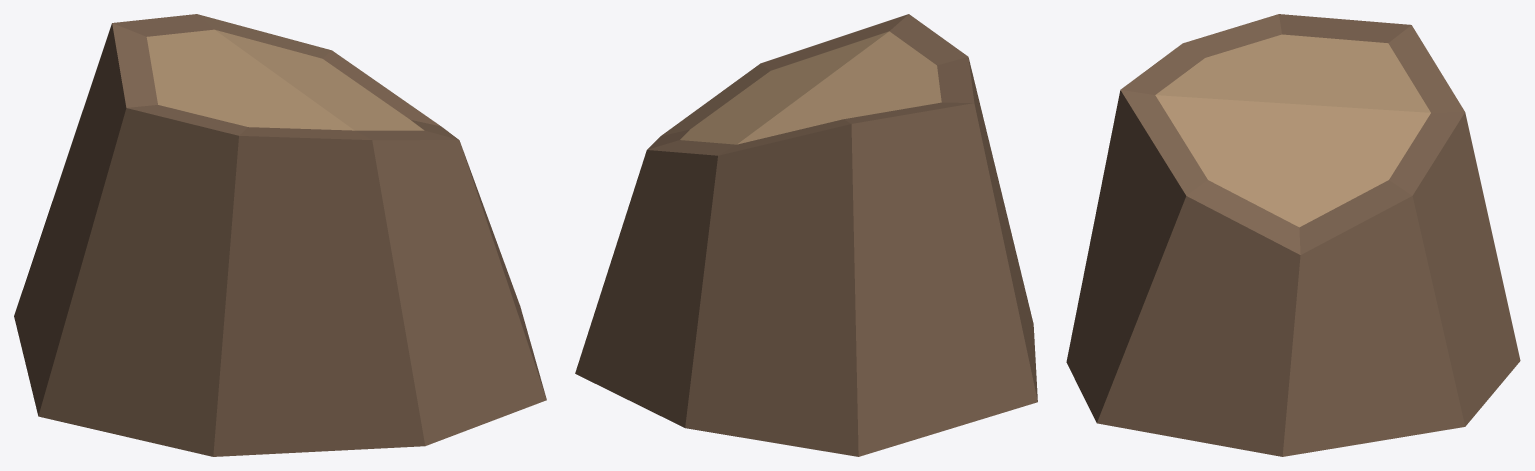
File: enchantedforest_tree_stump_1.fbx
3 renders of one model, left to right at view 1: azimuth 30°, elevation 25°; view 2: azimuth 150°, elevation 25°; view 3: azimuth 270°, elevation 25°, orthographic. The views are drawn at different scales.
Visible parts, largest first — view 1: Cylinder.014; view 2: Cylinder.014; view 3: Cylinder.014.
Boxes of the visible parts, x1,y1,x2,y2 form: Cylinder.014: (14,14,546,456); Cylinder.014: (575,14,1037,456); Cylinder.014: (1066,14,1520,456).
Size of the model in its own units: 0.7938 by 0.501 by 0.7276.
